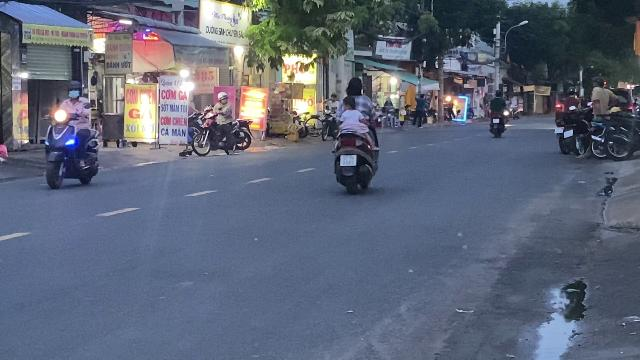helmet: (66, 80, 82, 99)
licenseplate: (340, 156, 356, 166)
motorcyclist: (40, 79, 101, 189), (330, 75, 380, 193)
nohelmet: (344, 77, 364, 96), (342, 96, 356, 110)
